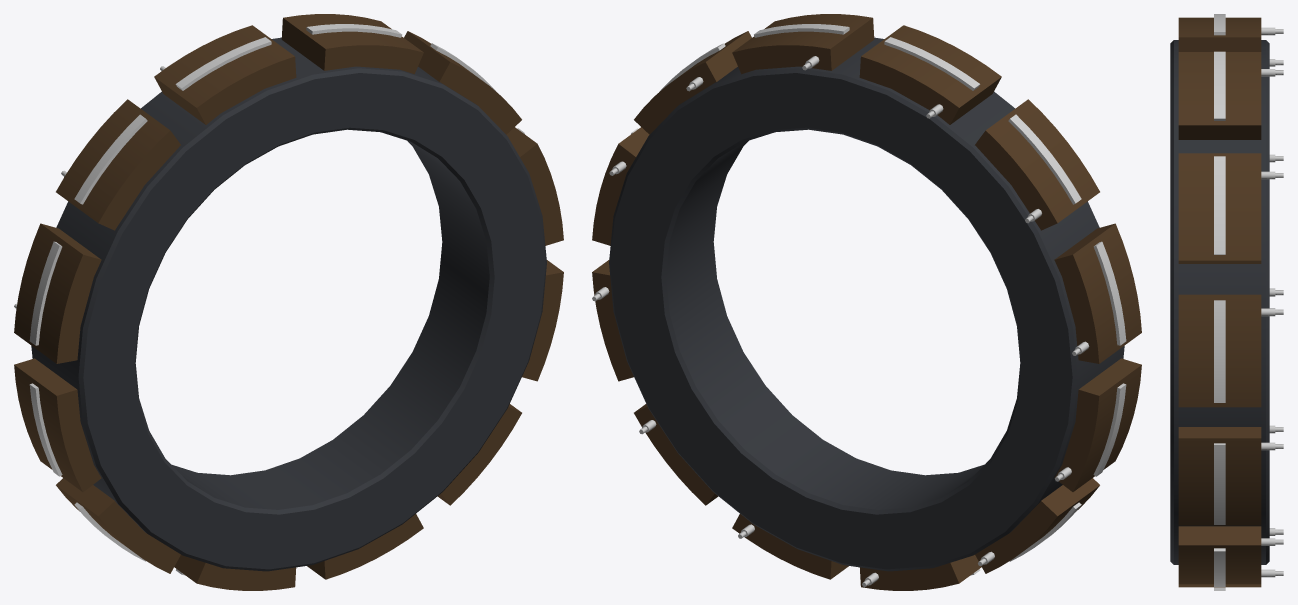
File: cr1_coil_ring.obj
3 renders of one model, left to right at view 1: azimuth 30°, elevation 25°; view 2: azimuth 150°, elevation 25°; view 3: azimuth 270°, elevation 25°, orthographic. The views are drawn at different scales.
Parts seen in each view (by area): view 1: cr1_coil_ring; view 2: cr1_coil_ring; view 3: cr1_coil_ring.
Part boxes in pixels (<box>): cr1_coil_ring: <box>14,14,563,590</box>; cr1_coil_ring: <box>592,14,1141,590</box>; cr1_coil_ring: <box>1170,14,1283,590</box>.
Size of the model in its own units: 3.45 by 3.45 by 0.679.
